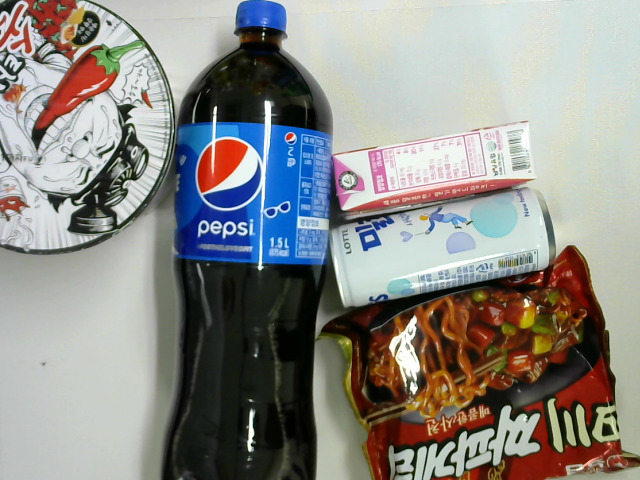HeJangsock: (1, 1, 177, 256)
Milkies_250ml: (329, 185, 557, 308)
Pepsi_Cola_1.5L: (162, 1, 333, 480)
Sichuan_Chapaghetti: (313, 244, 640, 480)
Strawberry_E_Mong: (331, 118, 538, 219)
